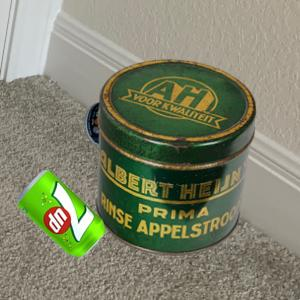can: (19, 169, 107, 257)
